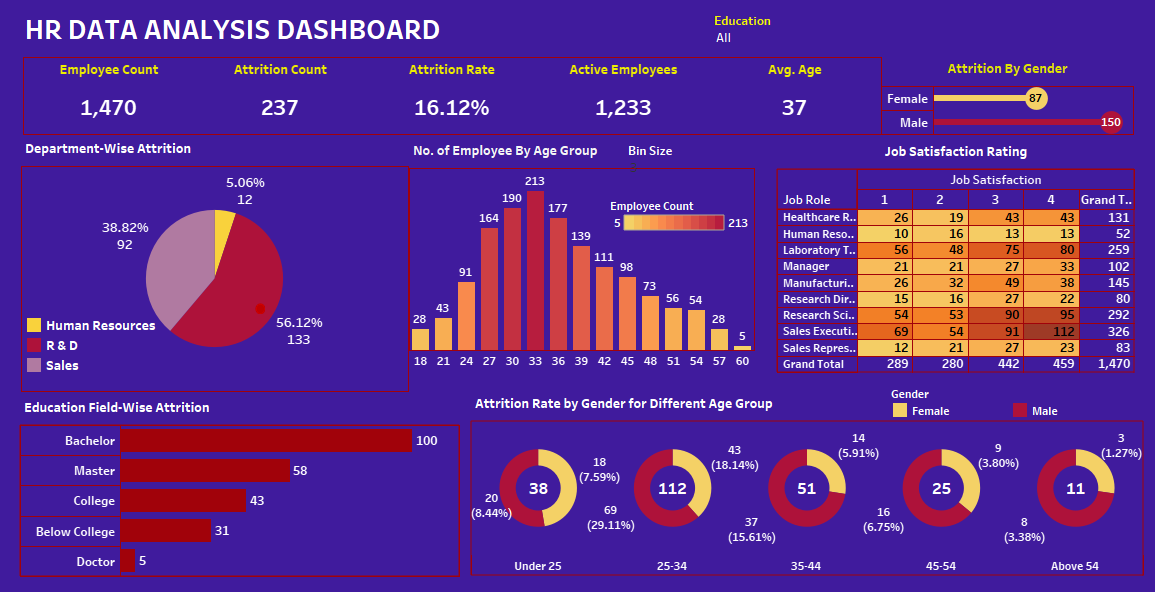

The dashboard page shown, as its layout file describes it:
{"tool":"tableau","page":{"name":"HR Data Dashboard","canvas":[1155,592],"ordinal":0},"visuals":[{"type":"text","box":[22,7,518,42]},{"type":"filter","title":"Education Field-Wise Attrition","param":"[federated.0yjf1yq076i96p1f7f2we1to289h].[none:Education:nk]","box":[714.1,11,164.7,40]},{"type":"worksheet","title":"Attrition By Gender","mark":"Automatic","rows":["Gender"],"cols":["Calculation_203225000461762560","Calculation_203225000461762560"],"box":[881,53,253,82]},{"type":"worksheet","title":"KPI","mark":"Automatic","box":[23,57,859,78]},{"type":"worksheet","title":"Department-Wise Attrition","mark":"Pie","box":[21,133,388,259]},{"type":"worksheet","title":"No. of Employee By Age Group","mark":"Automatic","rows":["EmployeeCount"],"cols":["Age (bin)"],"box":[409,135,346,236]},{"type":"worksheet","title":"Job Satisfaction Rating","mark":"Square","rows":["JobRole"],"cols":["JobSatisfaction"],"box":[777,136,358,237]},{"type":"parameter","param":"[Parameters].[Parameter 1]","box":[627.7,141,124.5,47]},{"type":"legend","title":"No. of Employee By Age Group","param":"[federated.0yjf1yq076i96p1f7f2we1to289h].[sum:EmployeeCount:qk]","box":[610,194,143,71]},{"type":"dashboard-object","box":[255,303,11,11]},{"type":"legend","title":"Department-Wise Attrition","param":"[federated.0yjf1yq076i96p1f7f2we1to289h].[none:Department:nk]","box":[24,315,191,98]},{"type":"legend","title":"Attrition Rate by Gender for Different Age Group","param":"[federated.0yjf1yq076i96p1f7f2we1to289h].[none:Gender:nk]","box":[890,384,256,59]},{"type":"worksheet","title":"Attrition Rate by Gender for Different Age Group","mark":"Pie","rows":["Calculation_542965232600547332","Calculation_542965232600547332"],"box":[471,388,673,188]},{"type":"worksheet","title":"Education Field-Wise Attrition","mark":"Automatic","rows":["Education"],"cols":["Calculation_203225000461762560"],"box":[20,392,440,185]}]}

Visuals, with their boxes in screenshot pixels (x1, y1, x2, y2), scaled from the page's 1155x592 canvas onto the 1155x592 screenshot:
text: [22,7,540,49]
"Education Field-Wise Attrition" filter: [714,11,879,51]
"Attrition By Gender" worksheet: [881,53,1134,135]
"KPI" worksheet: [23,57,882,135]
"Department-Wise Attrition" worksheet (Pie marks): [21,133,409,392]
"No. of Employee By Age Group" worksheet: [409,135,755,371]
"Job Satisfaction Rating" worksheet (Square marks): [777,136,1135,373]
parameter: [628,141,752,188]
"No. of Employee By Age Group" legend: [610,194,753,265]
dashboard-object: [255,303,266,314]
"Department-Wise Attrition" legend: [24,315,215,413]
"Attrition Rate by Gender for Different Age Group" legend: [890,384,1146,443]
"Attrition Rate by Gender for Different Age Group" worksheet (Pie marks): [471,388,1144,576]
"Education Field-Wise Attrition" worksheet: [20,392,460,577]
